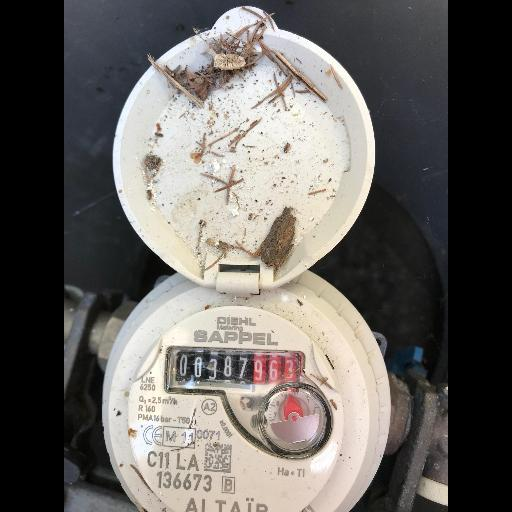0: (177, 350, 192, 383), (192, 352, 207, 382)
3: (205, 353, 221, 383), (285, 352, 298, 382)
6: (268, 355, 282, 384)
7: (237, 353, 250, 385)
8: (222, 354, 235, 384)
9: (254, 354, 267, 384)
border_water_meter_number: (167, 350, 319, 393)
